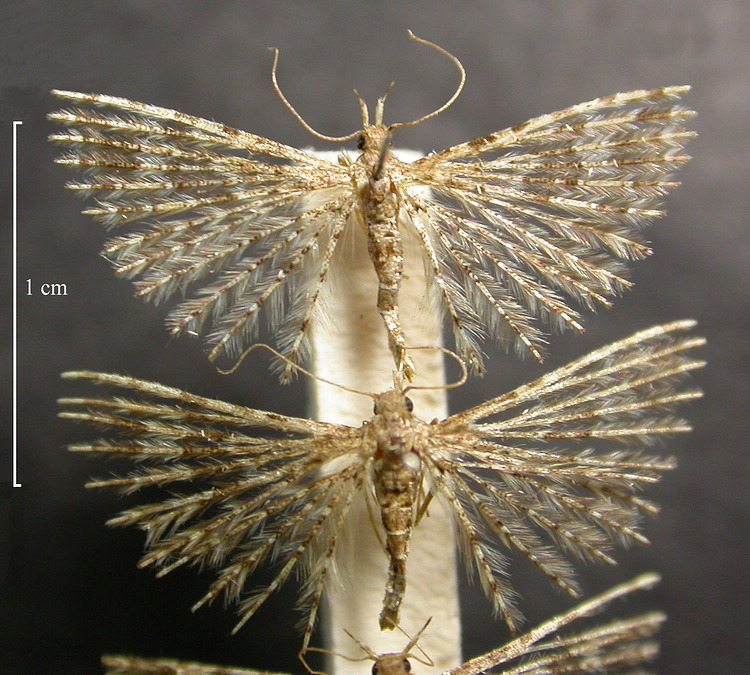Alucitidae: (38, 22, 698, 382), (51, 314, 723, 645)
moth: (40, 24, 700, 384), (49, 312, 721, 643)
